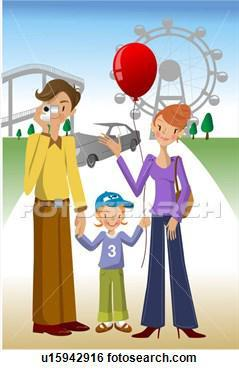car: (59, 115, 142, 173)
person: (18, 74, 89, 344), (130, 102, 207, 342), (84, 185, 139, 334)
